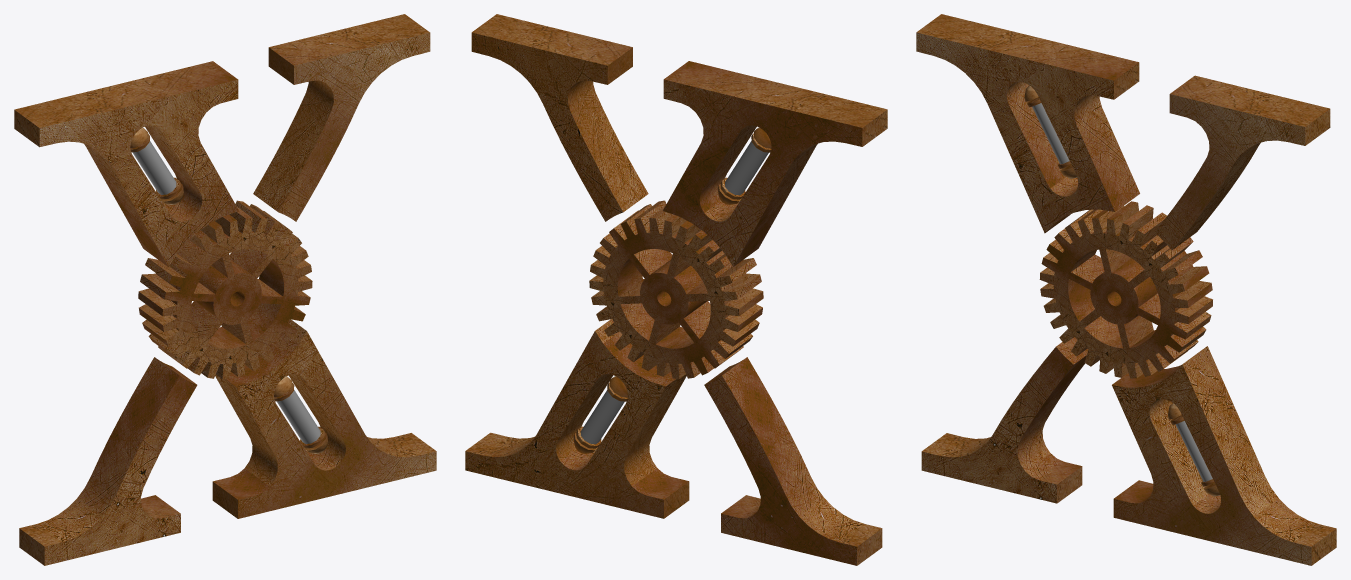
3 renders of one model, left to right at view 1: azimuth 30°, elevation 25°; view 2: azimuth 150°, elevation 25°; view 3: azimuth 330°, elevation 25°, orthographic.
Parts seen in each view (by area): view 1: X, Cogwheel_301, Tube054, Tube062; view 2: X, Cogwheel_301, Tube054, Tube062; view 3: X, Cogwheel_301, Tube054, Tube062.
Part boxes in pixels (<box>): X: <box>14,14,436,565</box>; Cogwheel_301: <box>138,200,312,378</box>; Tube054: <box>132,141,176,194</box>; Tube062: <box>276,390,320,443</box>; X: <box>465,14,887,565</box>; Cogwheel_301: <box>589,200,763,378</box>; Tube054: <box>725,141,768,195</box>; Tube062: <box>580,390,624,444</box>; X: <box>916,14,1336,565</box>; Cogwheel_301: <box>1039,201,1212,378</box>; Tube054: <box>1032,103,1069,164</box>; Tube062: <box>1175,421,1212,481</box>.
Bounding box in the file's own units: 90.58 × 95.77 × 10.05.
Materials: 2 (1 with a texture image).
